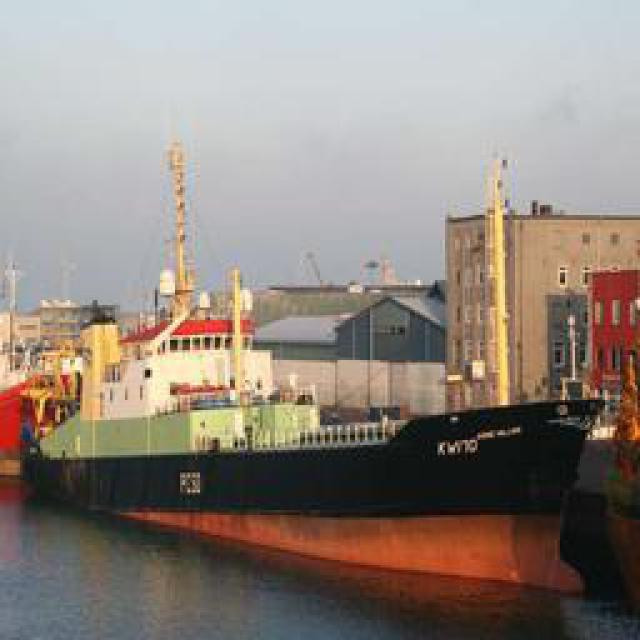Ship: (7, 140, 640, 518)
